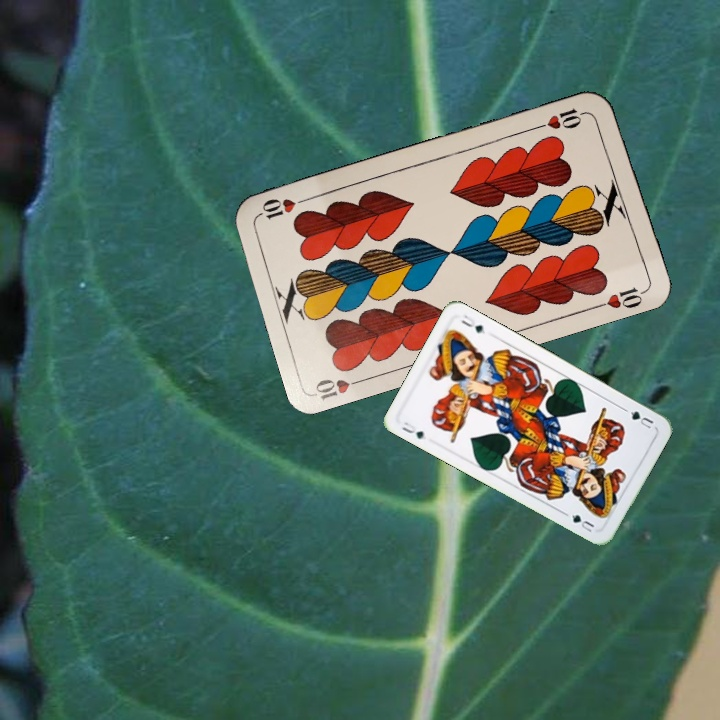GU: (398, 418, 429, 442), (626, 407, 656, 431)
H10: (311, 373, 370, 403), (533, 104, 591, 132)
